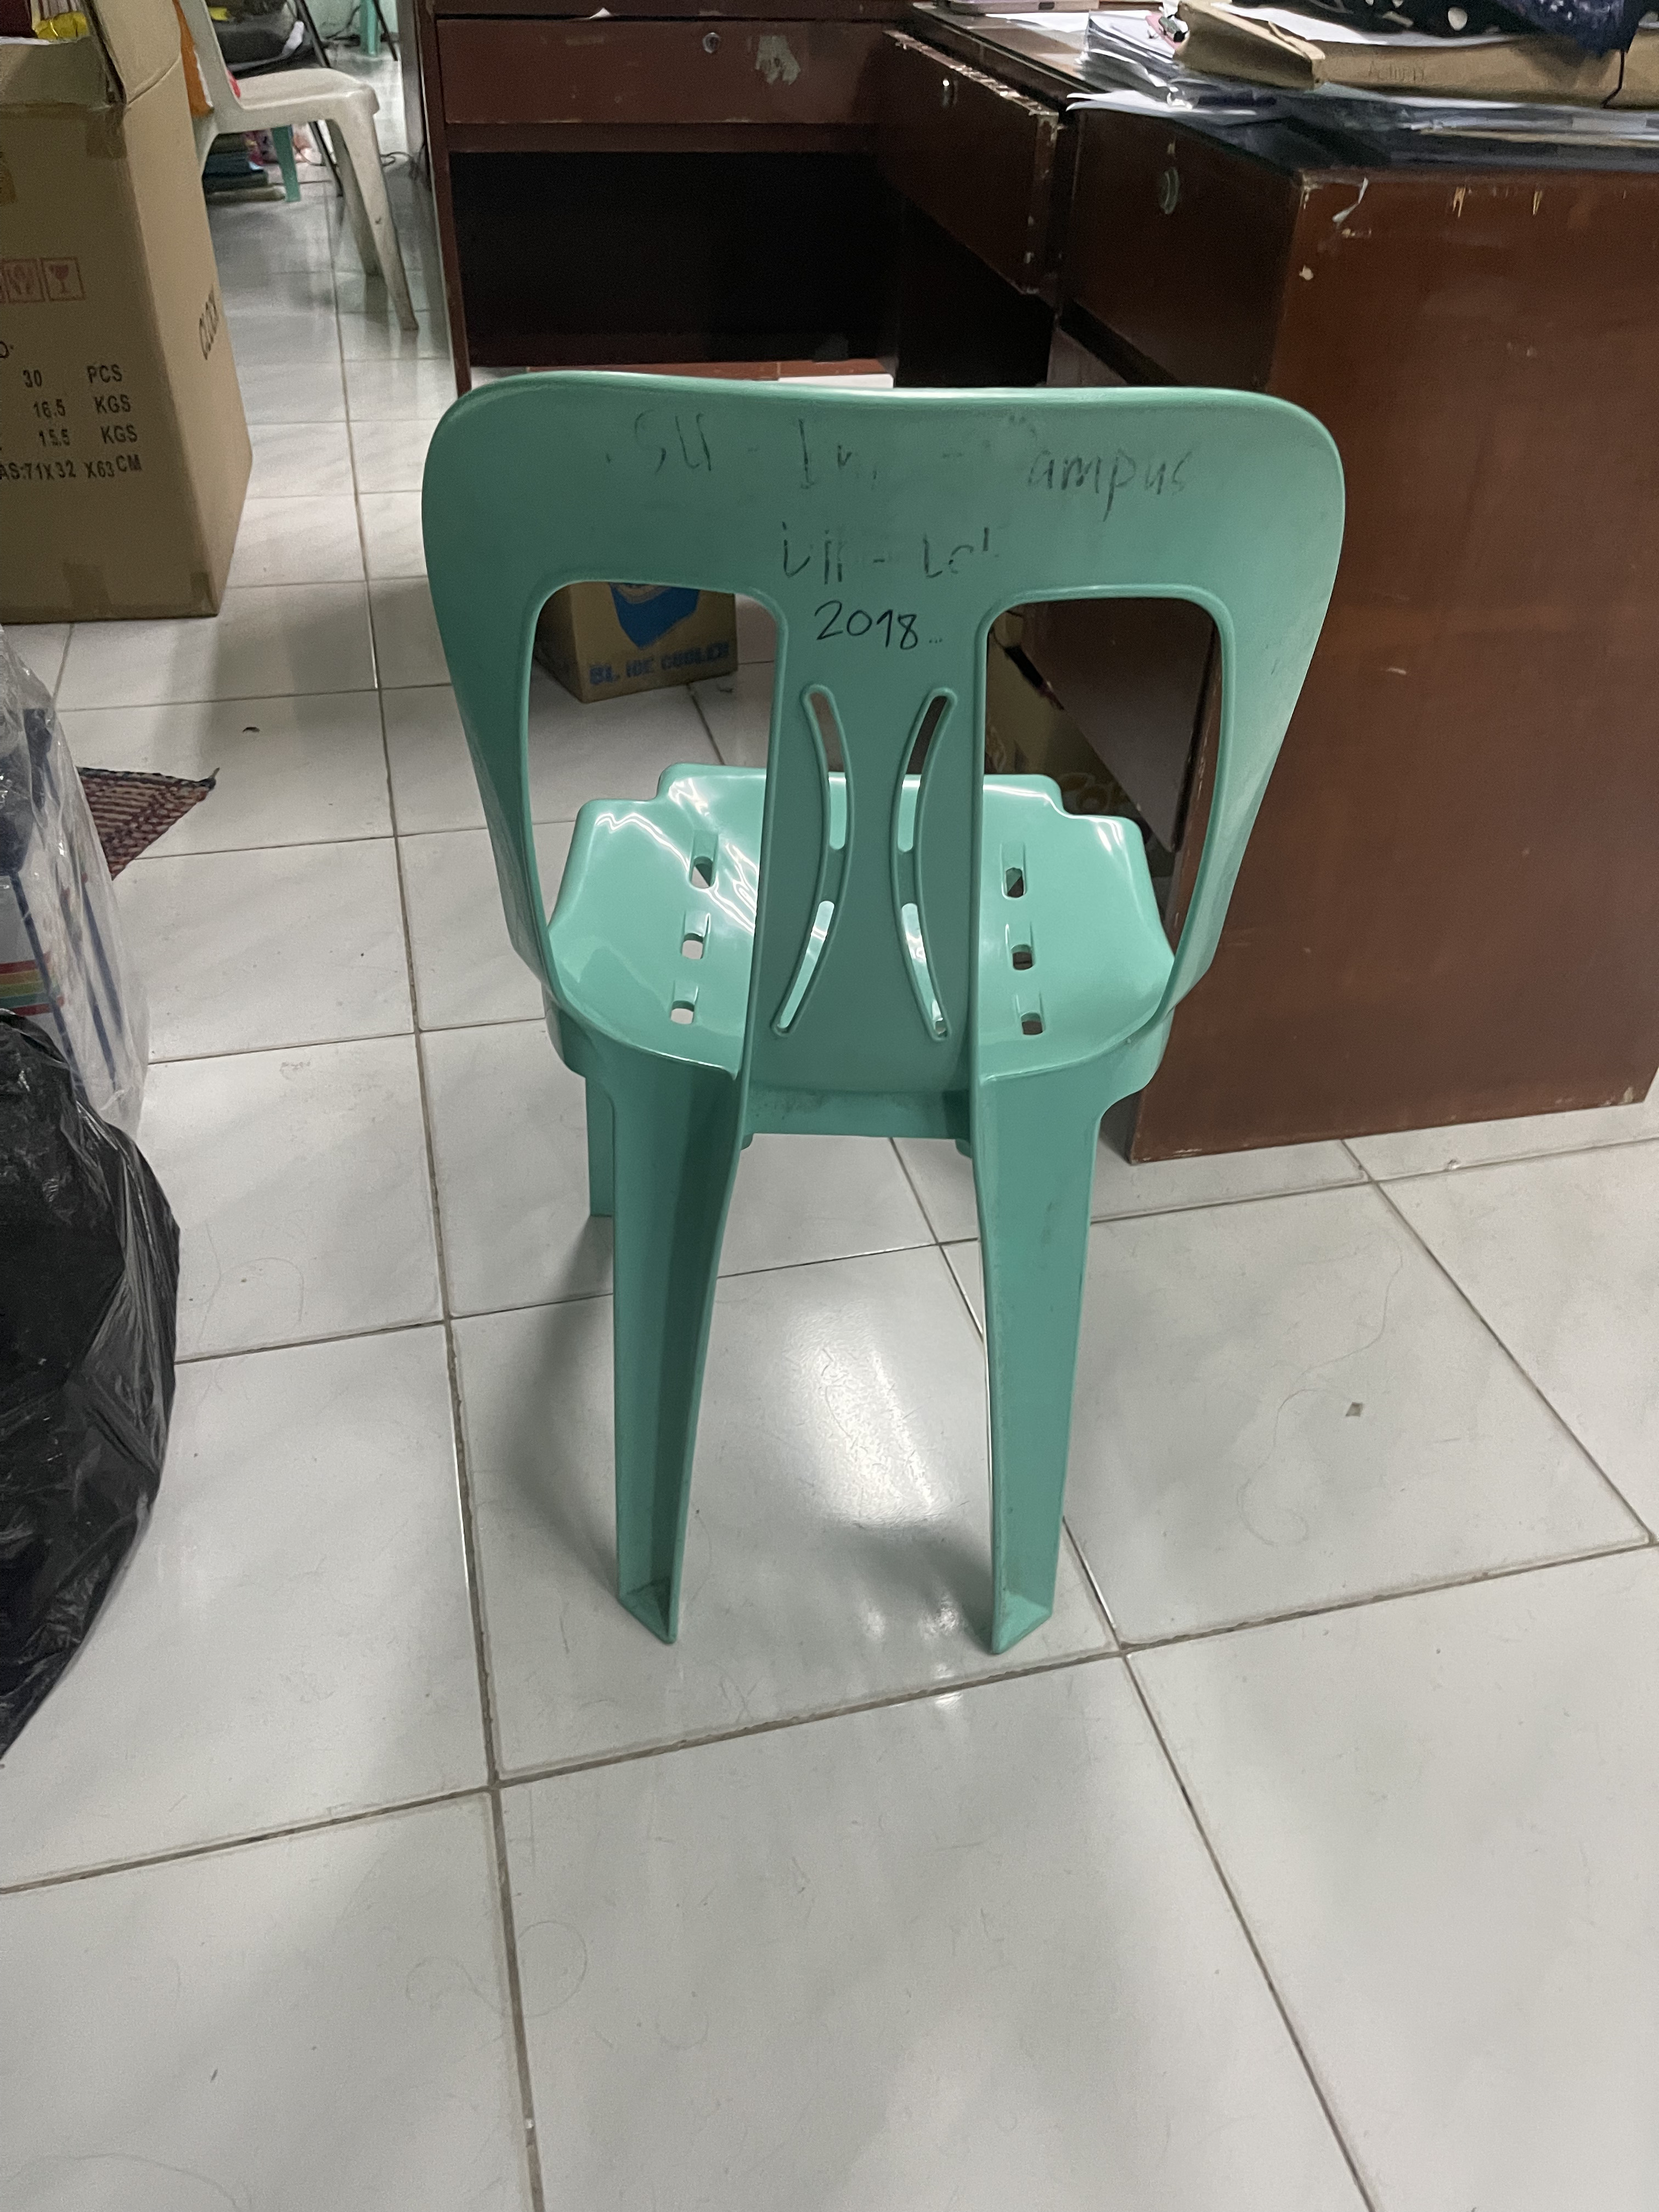chair2: (397, 369, 1356, 1686)
